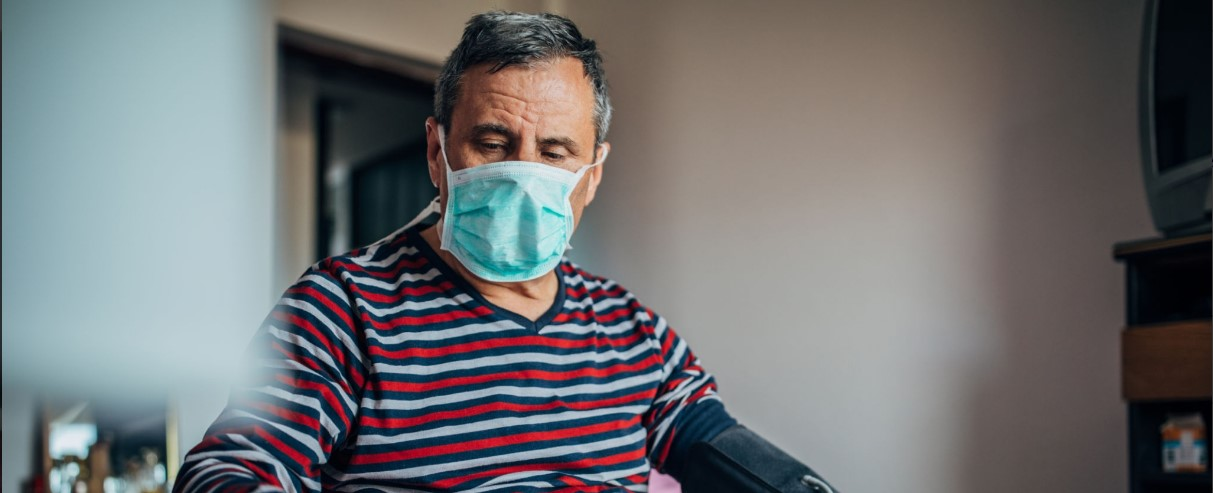face_with_mask: (428, 23, 609, 282)
